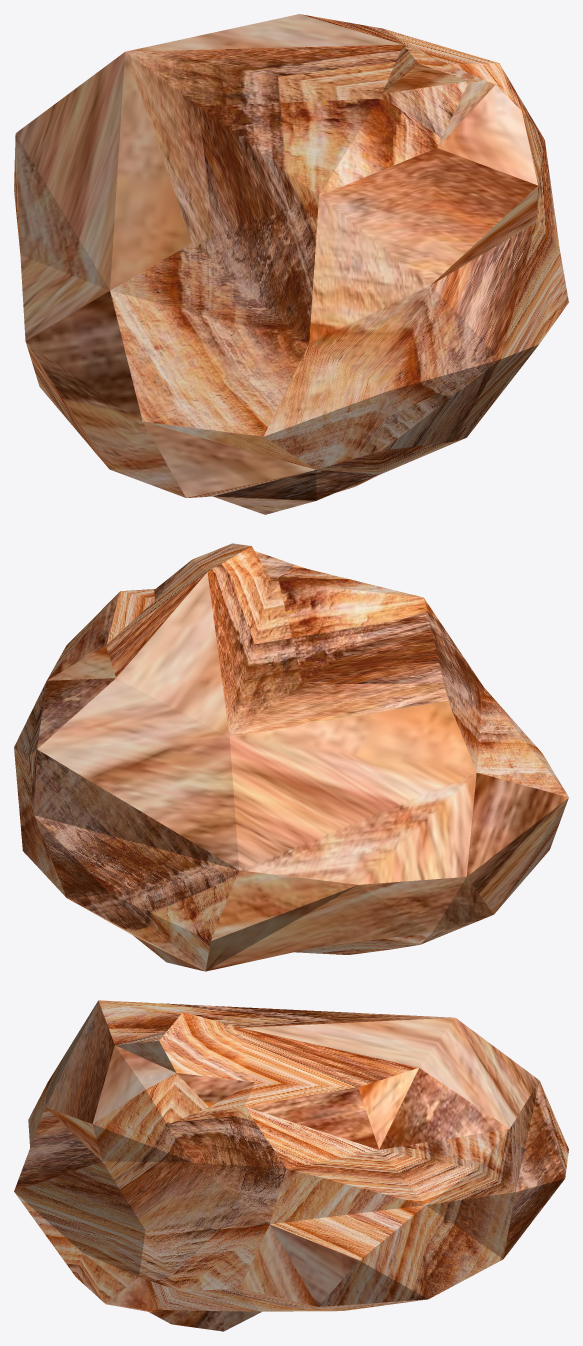
File: Rock.fbx
3 renders of one model, top to bottom at view 1: azimuth 30°, elevation 25°; view 2: azimuth 150°, elevation 25°; view 3: azimuth 270°, elevation 25°, orthographic. The views are drawn at different scales.
Visible parts, largest first — view 1: Cube; view 2: Cube; view 3: Cube.
Part boxes in pixels (box(x1,y1,x2,y2)): Cube: box(14, 14, 568, 514); Cube: box(14, 543, 568, 971); Cube: box(14, 1000, 568, 1331).
Bounding box in the file's own units: 133 × 105 × 152.
